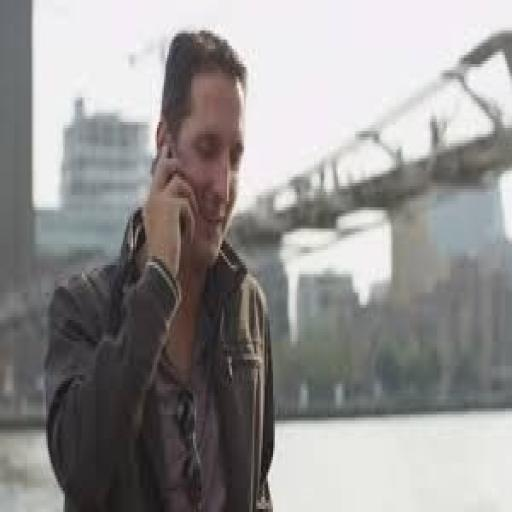calling: (41, 24, 276, 509)
